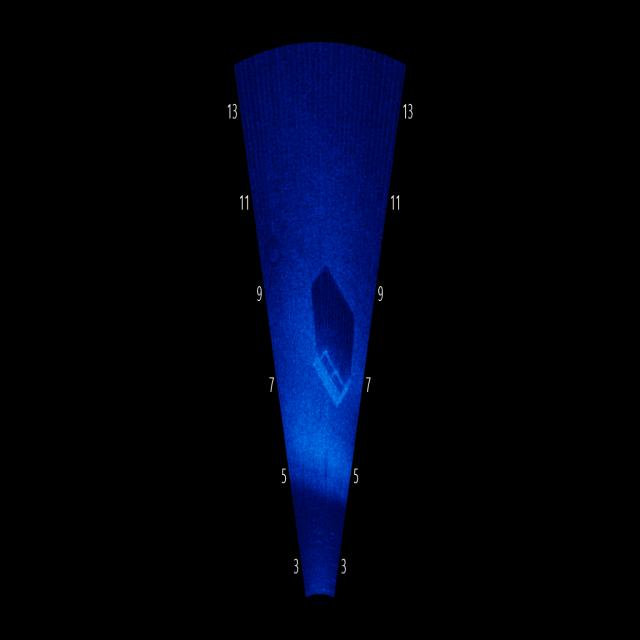square: (306, 318, 360, 418)
